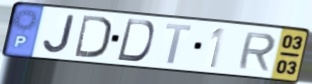1: (209, 27, 226, 69)
D: (114, 17, 156, 63), (73, 14, 113, 60)
J: (41, 13, 78, 55)
R: (235, 31, 278, 73)
T: (163, 22, 194, 66)
